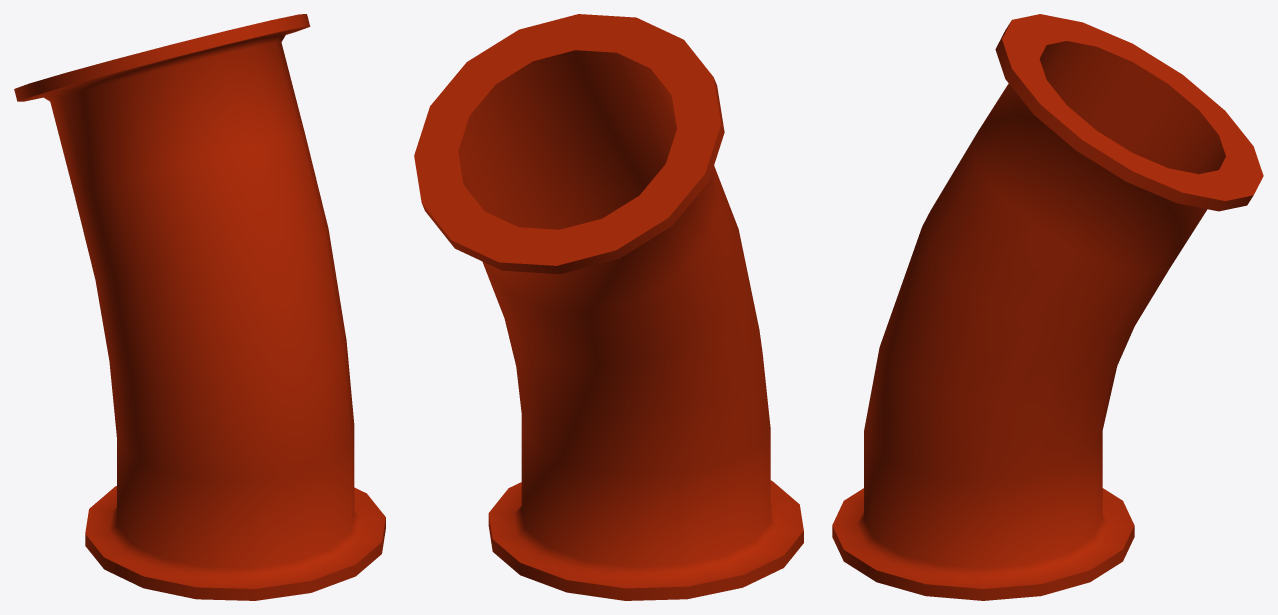
The model's file is Pipe_12.FBX.
3 renders of one model, left to right at view 1: azimuth 30°, elevation 25°; view 2: azimuth 150°, elevation 25°; view 3: azimuth 270°, elevation 25°, orthographic. The views are drawn at different scales.
Visible parts, largest first — view 1: Pipe_up1_012_Low; view 2: Pipe_up1_012_Low; view 3: Pipe_up1_012_Low.
Part boxes in pixels (<box>): Pipe_up1_012_Low: <box>14,14,385,600</box>; Pipe_up1_012_Low: <box>414,14,803,600</box>; Pipe_up1_012_Low: <box>832,14,1263,600</box>.
Bounding box in the file's own units: 38 × 69.1 × 54.24.
